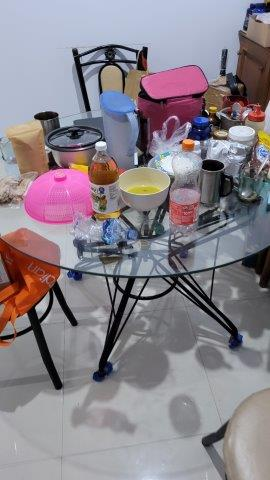botolplastik: (169, 142, 200, 238), (86, 143, 119, 233), (69, 215, 143, 244)
plastik: (153, 118, 186, 139)
